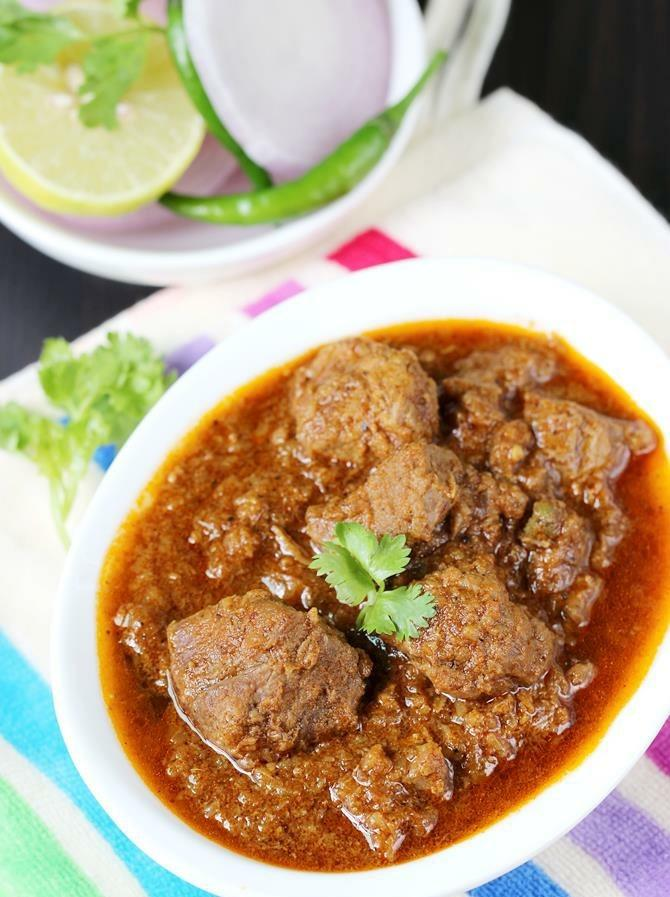MuttonCurry: (95, 318, 670, 868)
